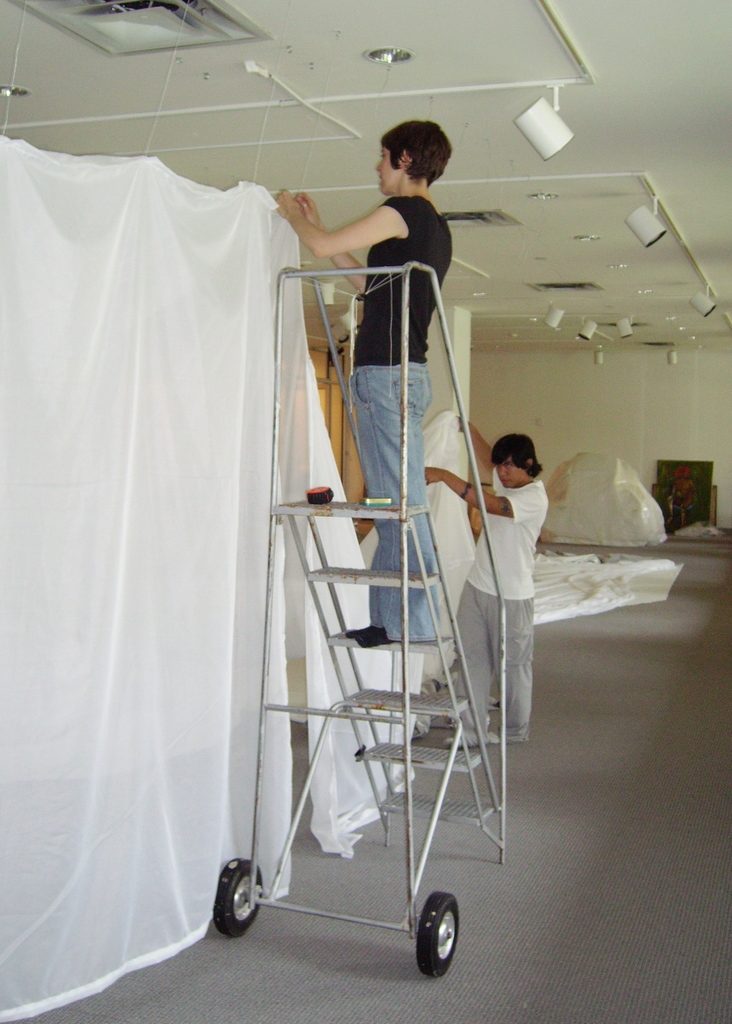person: (424, 429, 548, 744)
